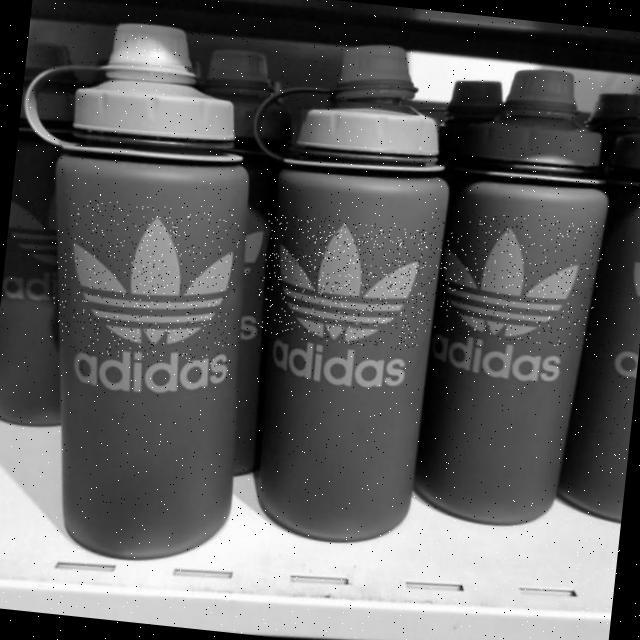Adidas: (48, 196, 243, 368), (420, 208, 605, 351), (254, 212, 430, 351)
